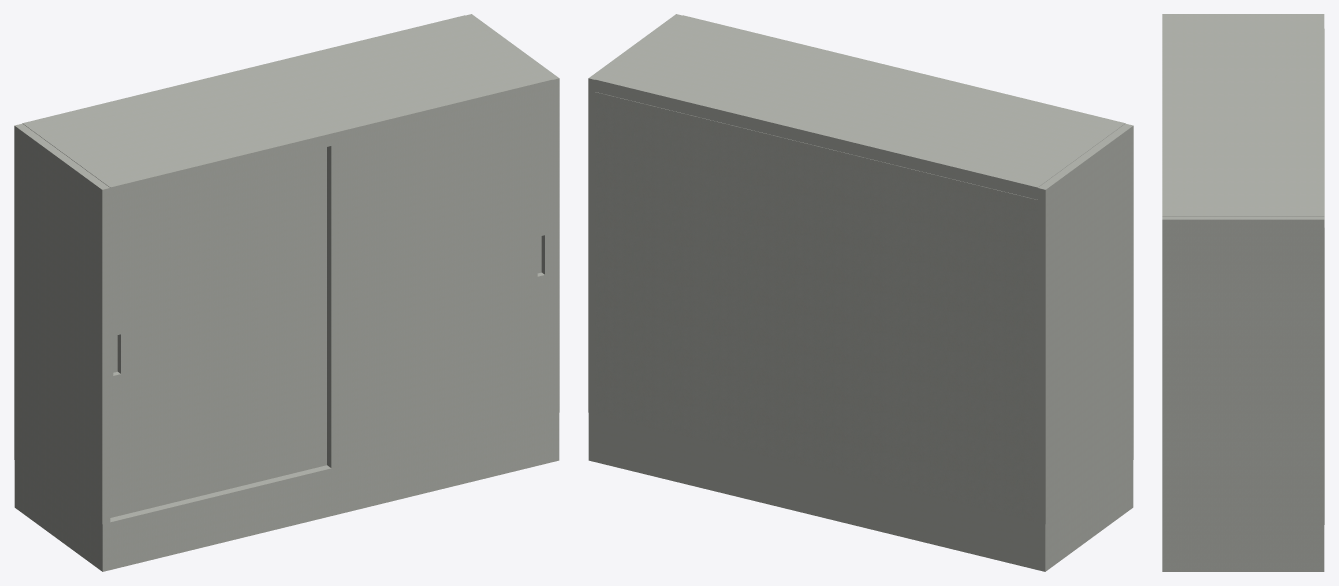
The model's file is shelfLower.gltf.
3 views of the same model, side by side, from view 1: azimuth 30°, elevation 25°; view 2: azimuth 150°, elevation 25°; view 3: azimuth 270°, elevation 25° (orthographic). The views are drawn at different scales.
Parts seen in each view (by area): view 1: Structure, ShelfDoor, ShelfDoor#1; view 2: LowerShelf, Structure; view 3: Structure, LowerShelf.
Part boxes in pixels (bbox=[...]): Structure: bbox=[14, 14, 559, 571]; ShelfDoor: bbox=[327, 92, 552, 468]; ShelfDoor#1: bbox=[110, 147, 326, 517]; LowerShelf: bbox=[595, 92, 1037, 522]; Structure: bbox=[588, 14, 1133, 571]; Structure: bbox=[1162, 14, 1324, 571]; LowerShelf: bbox=[1324, 29, 1324, 524].
Bounding box in the file's own units: 1.2 × 0.961 × 0.401.
2 materials, 1 textured.
